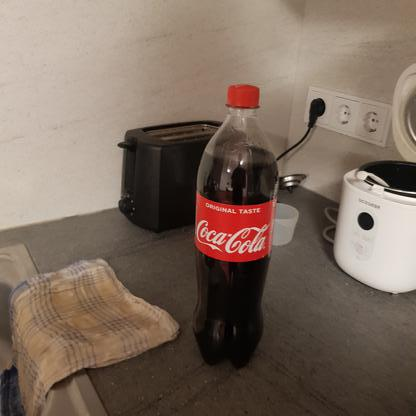coca-cola: (190, 82, 280, 373)
